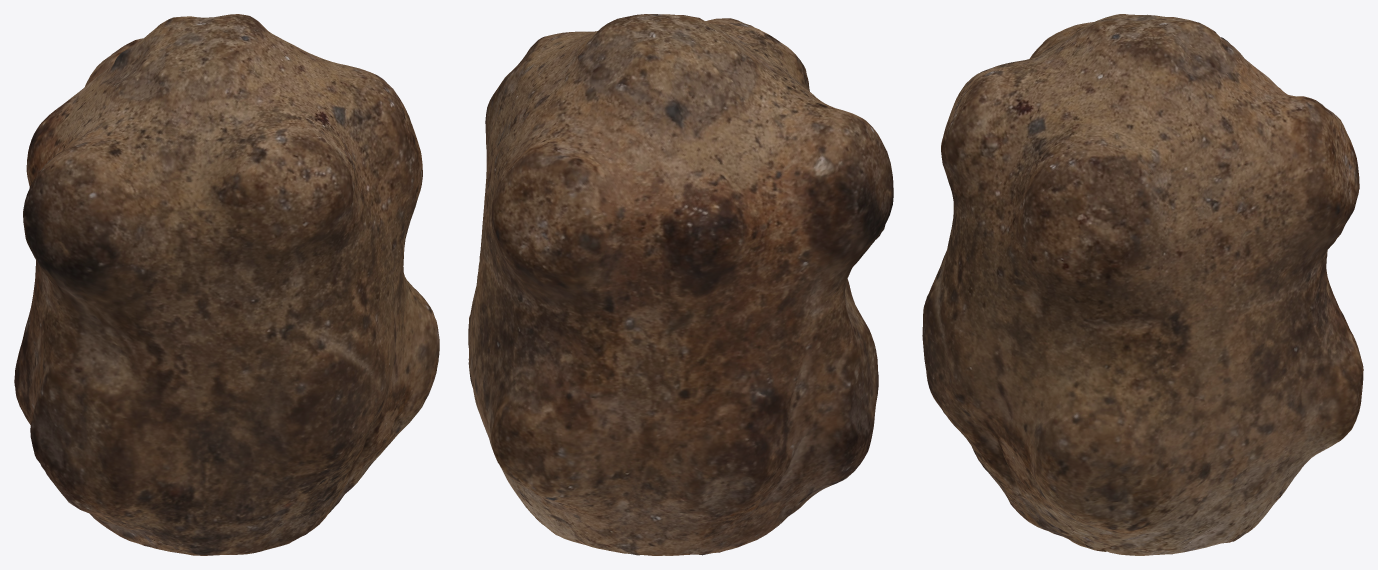
File: item7.glb
3 renders of one model, left to right at view 1: azimuth 30°, elevation 25°; view 2: azimuth 150°, elevation 25°; view 3: azimuth 270°, elevation 25°, orthographic.
Parts seen in each view (by area): view 1: Object_2; view 2: Object_2; view 3: Object_2.
Boxes of the visible parts, x1,y1,x2,y2 form: Object_2: (14, 14, 439, 555); Object_2: (468, 14, 893, 555); Object_2: (922, 14, 1363, 555).
Bounding box in the file's own units: 17.23 × 20.28 × 16.54.
Materials: 1 (1 with a texture image).
